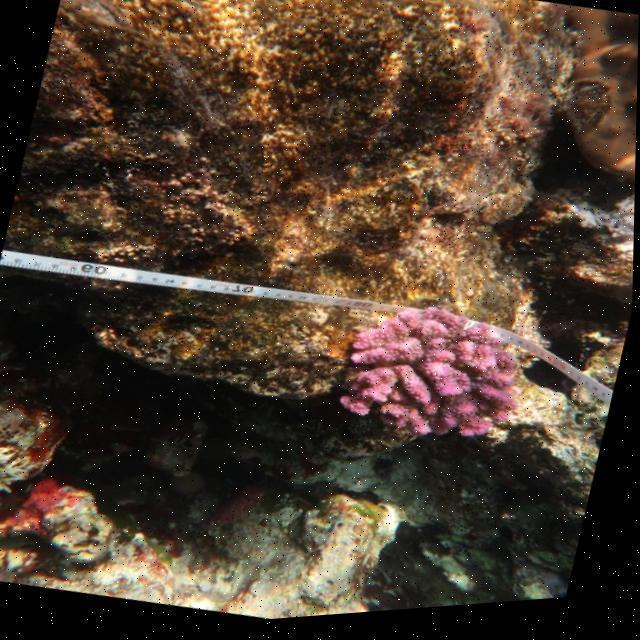Healthy Coral: (317, 283, 555, 487)
